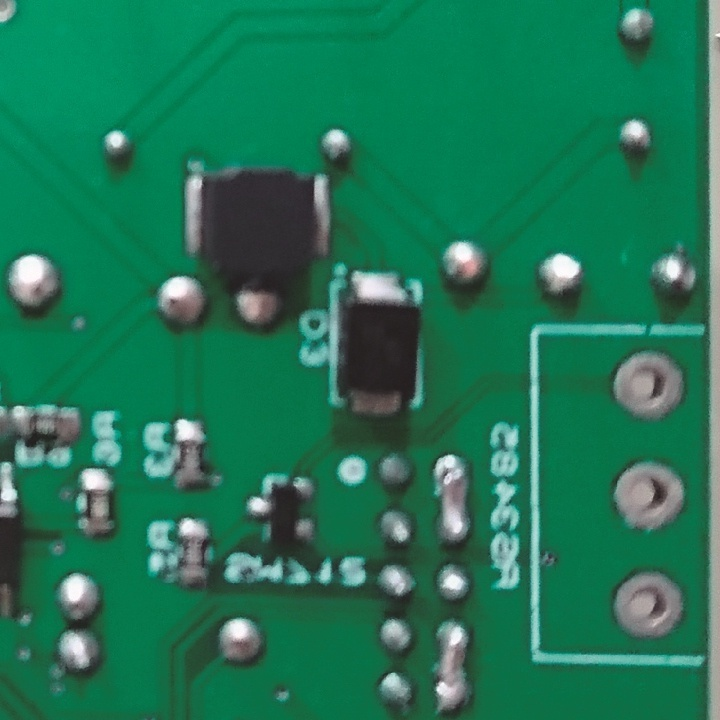F: (607, 346, 690, 423), (611, 458, 684, 538), (613, 569, 688, 642)
P: (433, 452, 473, 546), (434, 619, 470, 712)
